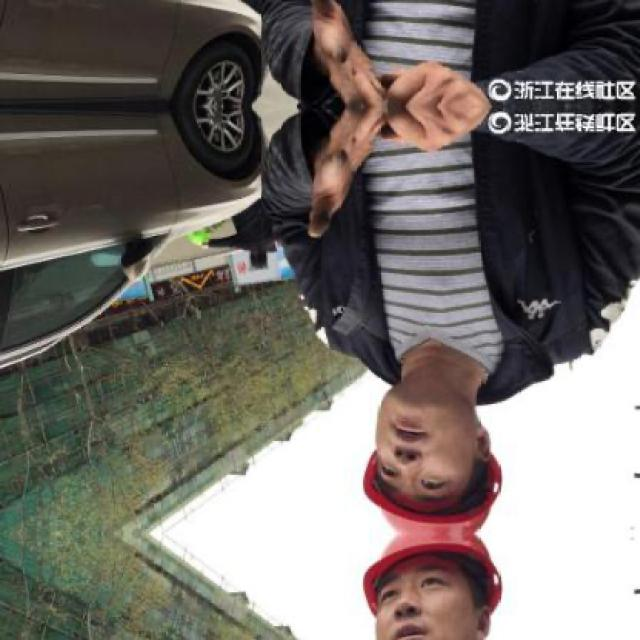con casco: (360, 266, 532, 533)
